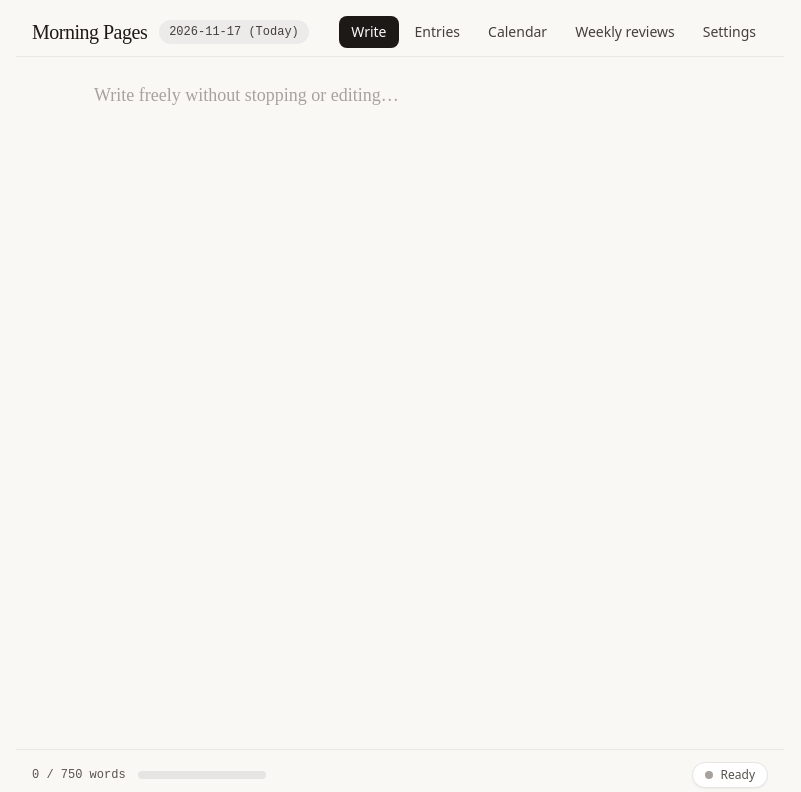
Brief 6: Frontend Settings UI, Permission Explanation & Push Subscription Flow › handles denied browser notification permission gracefully with an informative alert
Click the button "Settings".
click(729, 32)  # box [691,16,768,48]
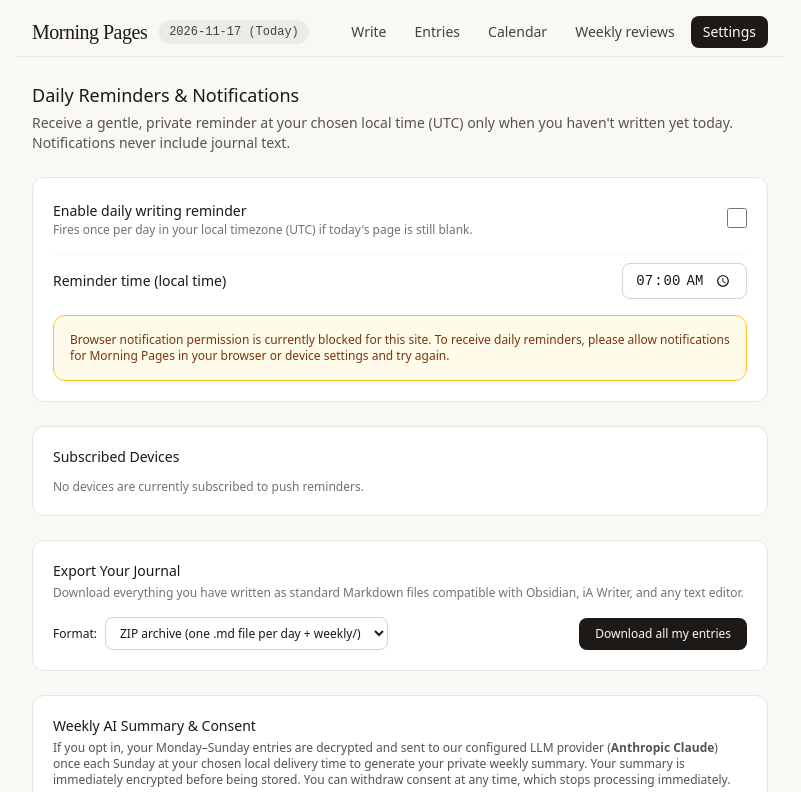
Check: the message shows "Browser notification permission is currently blocked", box [70,331,730,364]
